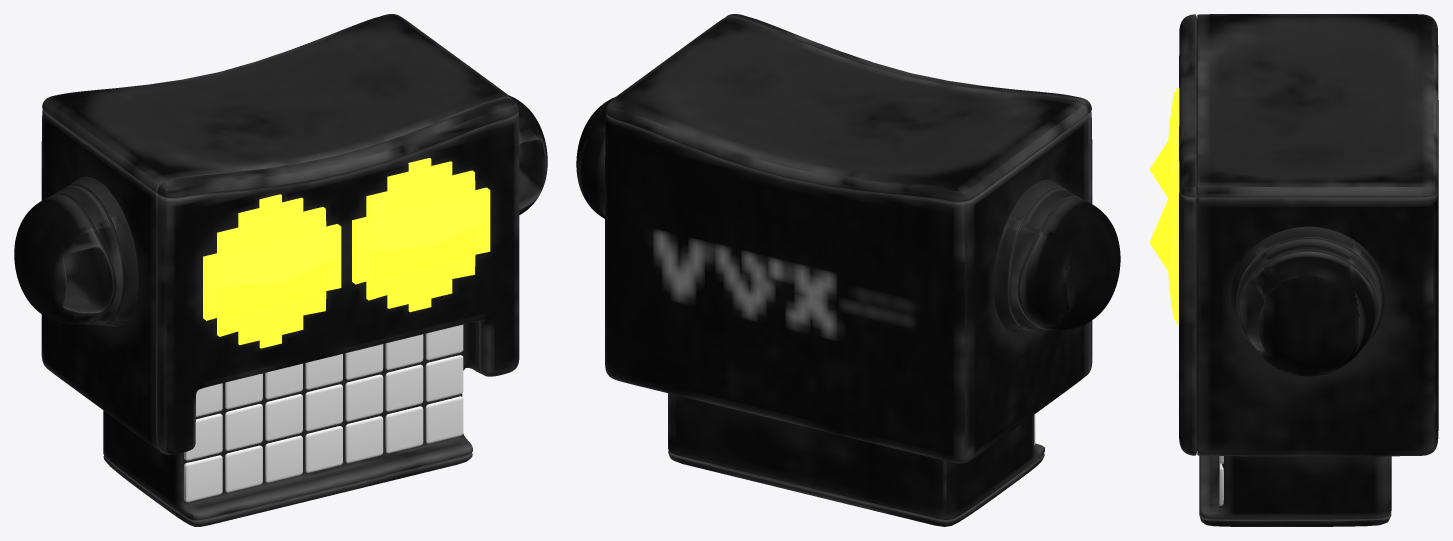
The model's file is eyes2.glb.
3 views of the same model, side by side, from view 1: azimuth 30°, elevation 25°; view 2: azimuth 150°, elevation 25°; view 3: azimuth 270°, elevation 25° (orthographic). The views are drawn at different scales.
Parts seen in each view (by area): view 1: Box003, Plane002_Material #50_0, ChamferBox021; view 2: Box003; view 3: Box003, Plane002_Material #50_0.
Part boxes in pixels (x1,y1,x2,y2): Box003: (14, 14, 547, 526); Plane002_Material #50_0: (203, 158, 490, 348); ChamferBox021: (184, 324, 463, 502); Box003: (576, 14, 1120, 526); Box003: (1179, 14, 1438, 526); Plane002_Material #50_0: (1149, 88, 1179, 323).
Size of the model in its own units: 0.5333 by 0.359 by 0.2596.
Materials: 3 (1 with a texture image).
